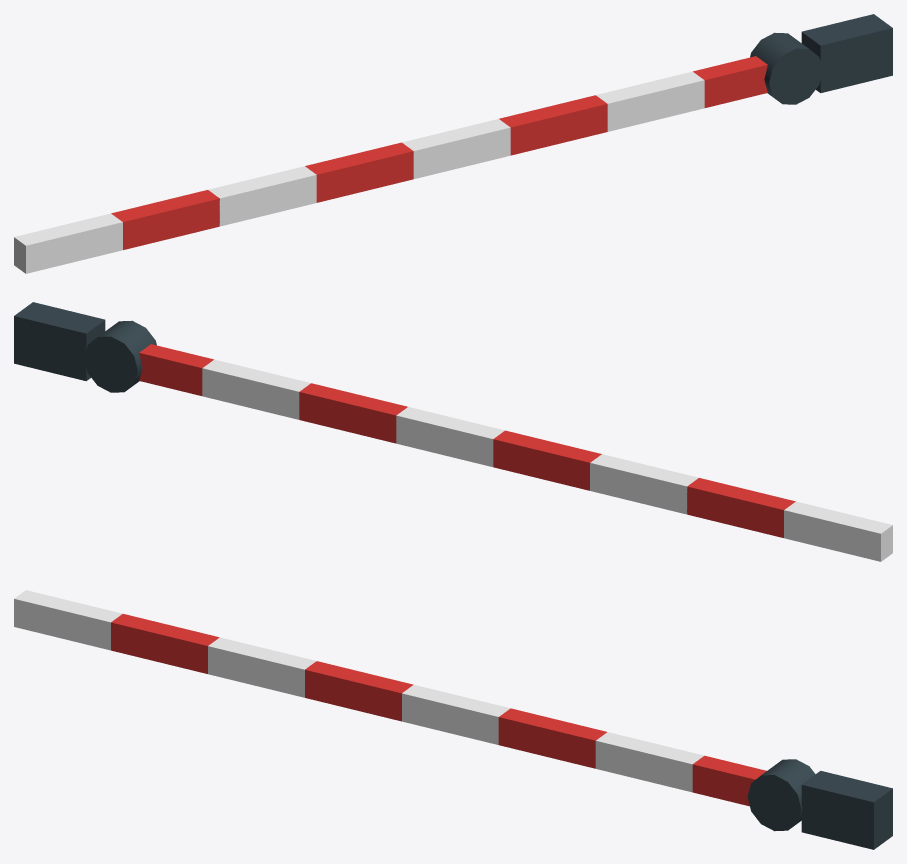
File: roadevents_toll_arm.glb
3 renders of one model, top to bottom at view 1: azimuth 30°, elevation 25°; view 2: azimuth 150°, elevation 25°; view 3: azimuth 330°, elevation 25°, orthographic.
Visible parts, largest first — view 1: TollArm; view 2: TollArm; view 3: TollArm.
Boxes of the visible parts, left/top/right/bottom form: TollArm: left=14, top=14, right=892, bottom=273; TollArm: left=14, top=302, right=892, bottom=561; TollArm: left=14, top=590, right=892, bottom=849.
Bounding box in the file's own units: 4.18 × 0.26 × 0.18.
